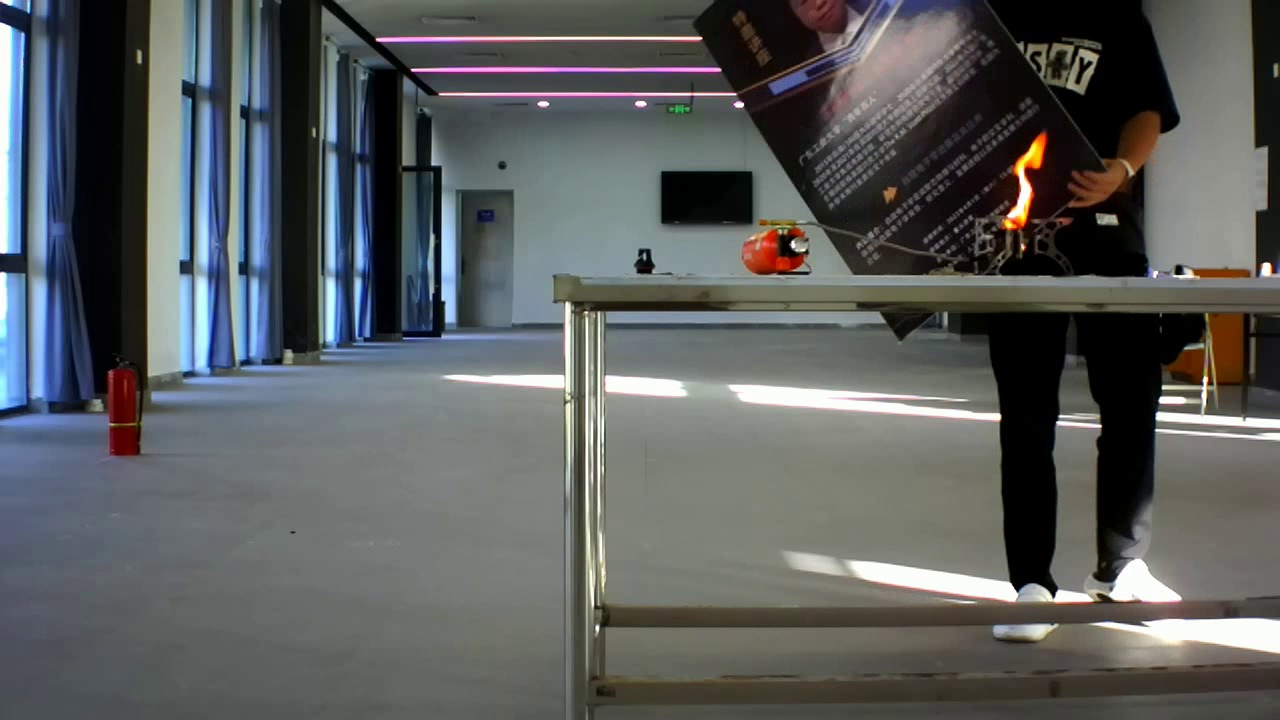Fire: (993, 124, 1054, 231)
